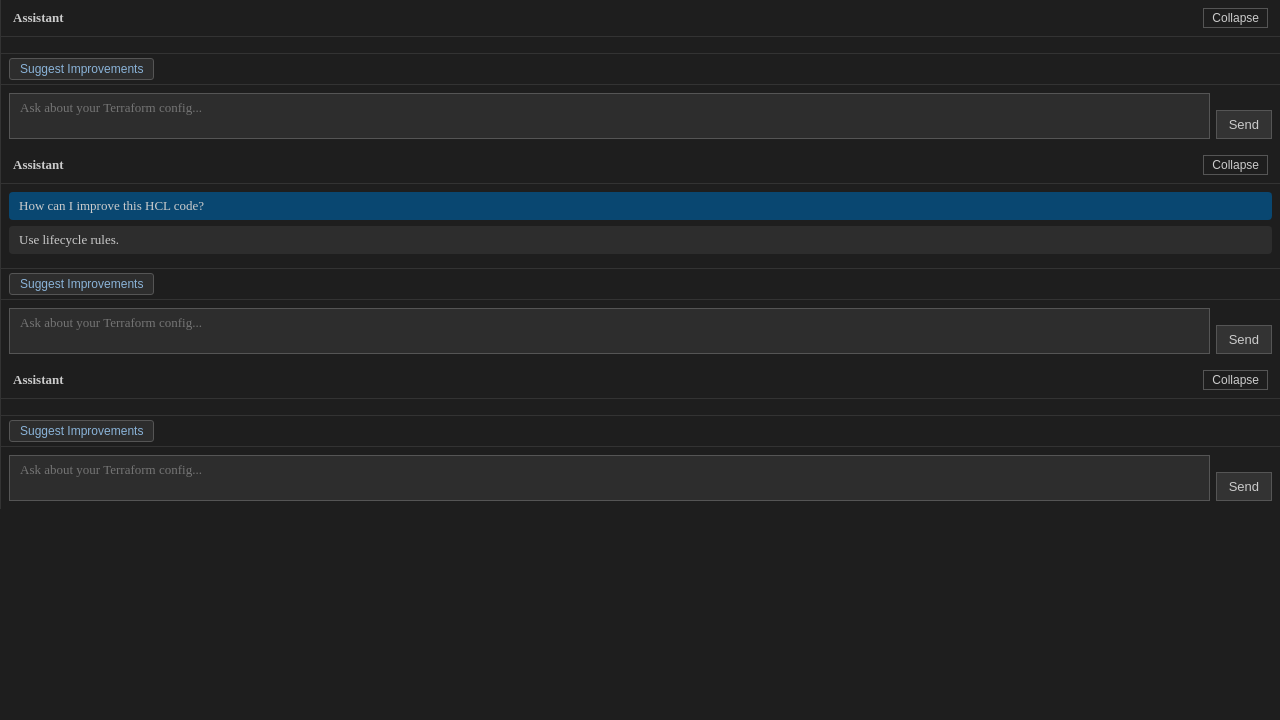
ED-010: Assistant suggests improvements › improvement suggestions stream into chat thread
Click the 3rd button with test id "btn-suggest" at (82, 431), box [9,420,154,442]
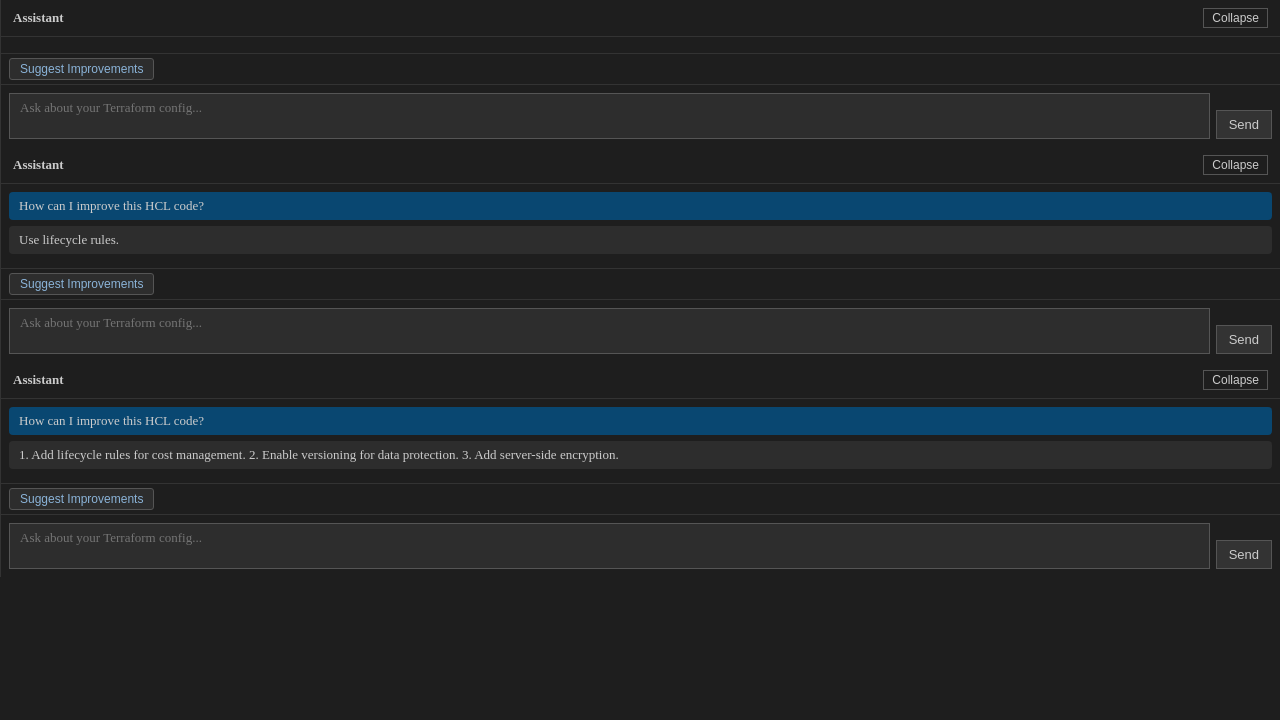
Now the text with test id "chat-message" shows "lifecycle rules", box [19,447,619,462]
Now the text with test id "chat-message" shows "versioning", box [19,447,619,462]
Now the text with test id "chat-message" shows "encryption", box [19,447,619,462]
